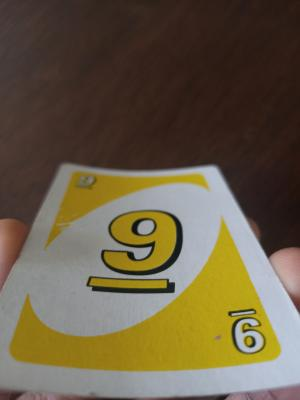num_9: (218, 292, 270, 362)
yellow: (79, 200, 197, 308), (68, 172, 166, 198)
